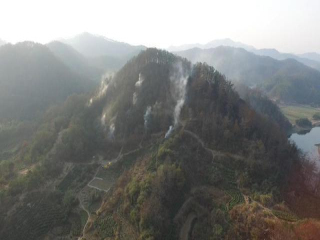smoke: (133, 61, 195, 140)
